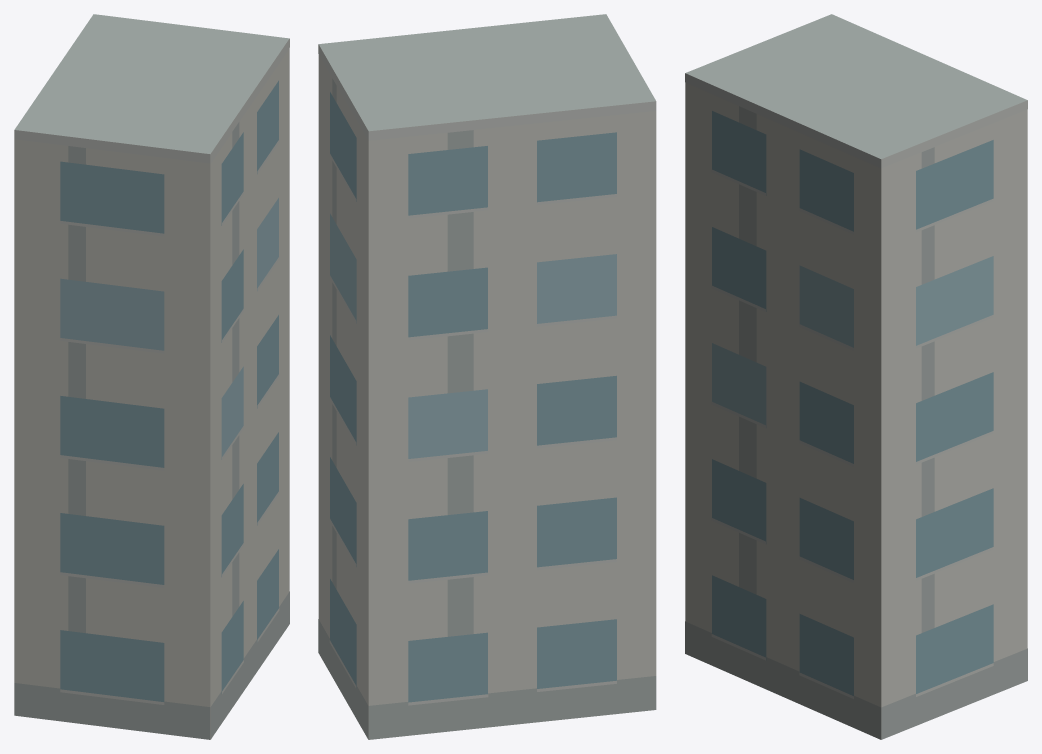
The model's file is survey-upis-32783425.glb.
3 renders of one model, left to right at view 1: azimuth 30°, elevation 25°; view 2: azimuth 150°, elevation 25°; view 3: azimuth 270°, elevation 25°, orthographic. The views are drawn at different scales.
Visible parts, largest first — view 1: survey-upis-32783425.tmp; view 2: survey-upis-32783425.tmp; view 3: survey-upis-32783425.tmp.
Part boxes in pixels (x1,y1,x2,y2): survey-upis-32783425.tmp: [14, 14, 289, 739]; survey-upis-32783425.tmp: [318, 14, 656, 739]; survey-upis-32783425.tmp: [685, 14, 1027, 739].
Size of the model in its own units: 8.19 by 15.25 by 8.16.
